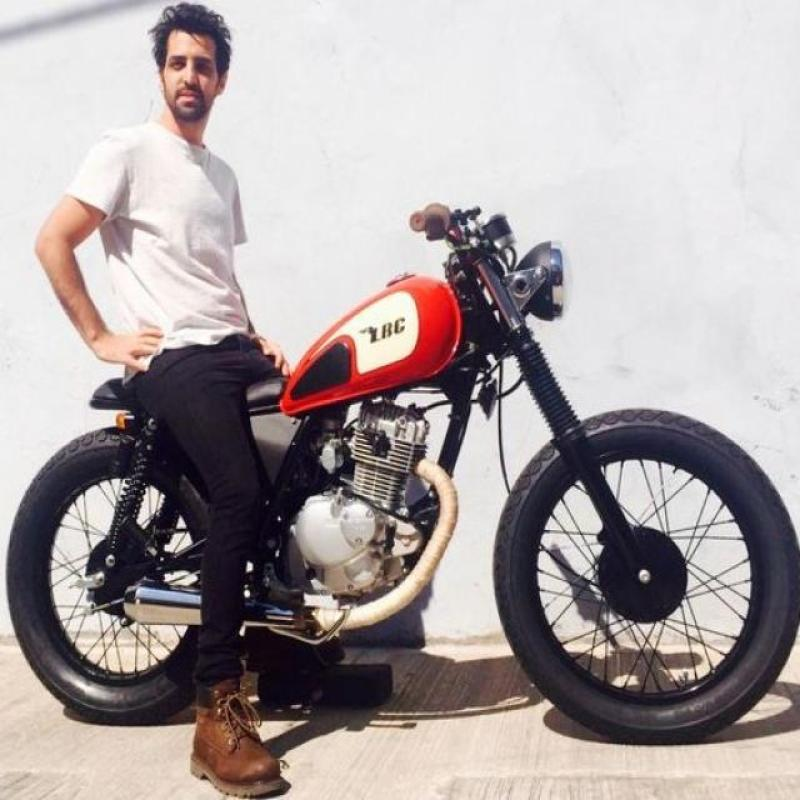nohelmet: (126, 0, 265, 146)
